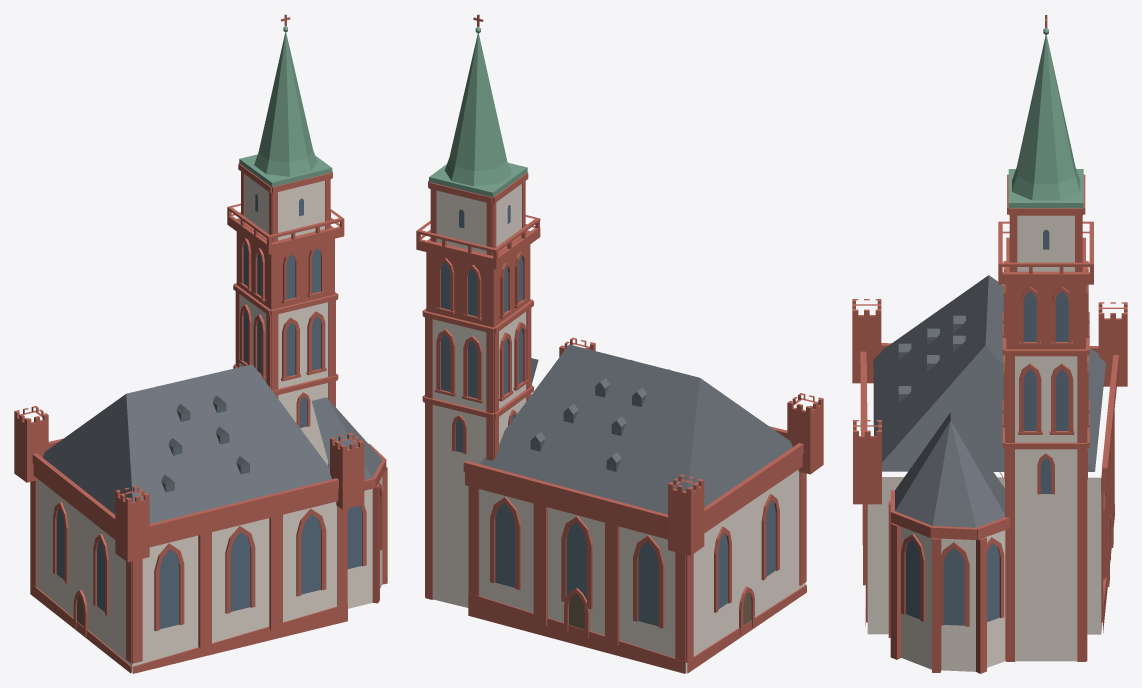
Rendered from frankfurt-alte-nikolaikirche.glb.
3 views of the same model, side by side, from view 1: azimuth 30°, elevation 25°; view 2: azimuth 150°, elevation 25°; view 3: azimuth 270°, elevation 25° (orthographic). The views are drawn at different scales.
Parts seen in each view (by area): view 1: Alte Nikolaikirche; view 2: Alte Nikolaikirche; view 3: Alte Nikolaikirche.
Boxes of the visible parts, box(x1,y1,x2,y2) form: Alte Nikolaikirche: box(14, 14, 387, 673); Alte Nikolaikirche: box(416, 14, 823, 673); Alte Nikolaikirche: box(852, 15, 1127, 673).
Size of the model in its own units: 27.29 by 48 by 19.03.
